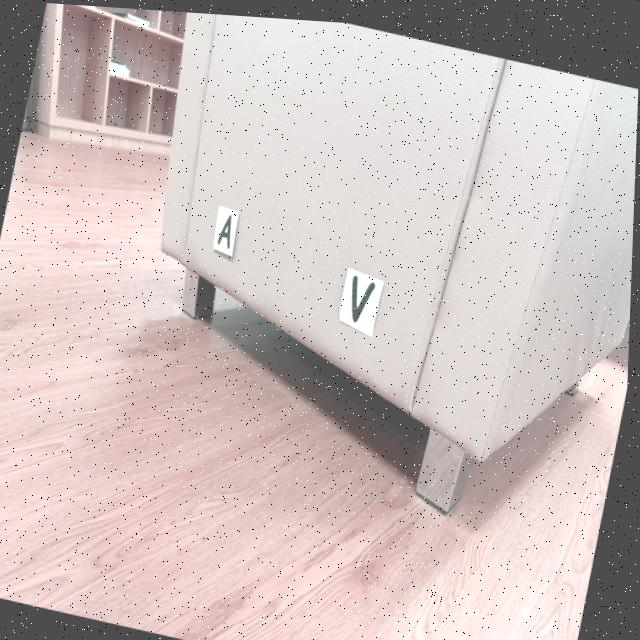A: (219, 211, 234, 245)
V: (353, 270, 378, 318)
